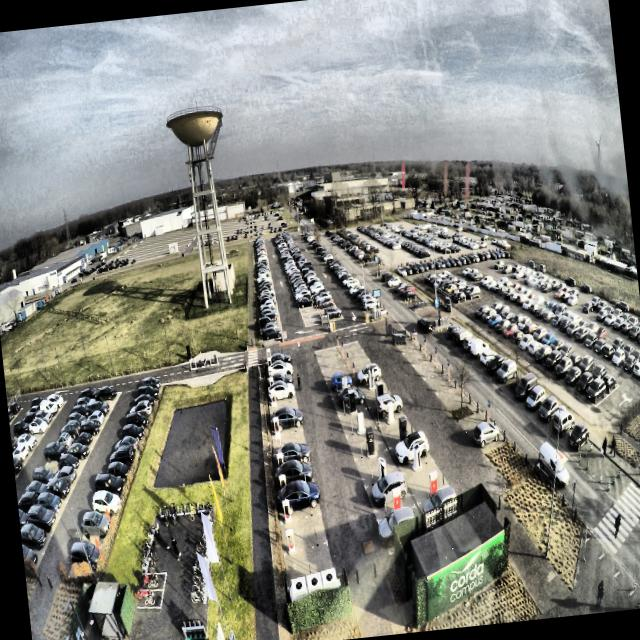cabinet: (291, 567, 337, 594)
car: (278, 479, 321, 518), (275, 459, 314, 486), (275, 440, 311, 465), (271, 406, 304, 431), (267, 379, 297, 402), (266, 371, 294, 391), (267, 359, 293, 377), (268, 353, 293, 370)
parking: (281, 511, 327, 553), (284, 542, 332, 582), (278, 485, 319, 522), (275, 465, 315, 496), (273, 446, 310, 475), (272, 428, 307, 454), (270, 413, 302, 436), (269, 400, 299, 420), (268, 388, 296, 406), (267, 378, 294, 393), (266, 367, 292, 382), (265, 357, 290, 372)
supercharger: (285, 529, 295, 552), (282, 499, 291, 522), (278, 474, 287, 494), (276, 452, 285, 469), (274, 434, 282, 450), (273, 417, 280, 435), (271, 402, 278, 417), (269, 389, 276, 403), (268, 377, 274, 389), (267, 357, 272, 368), (268, 367, 273, 377), (266, 348, 271, 358)
